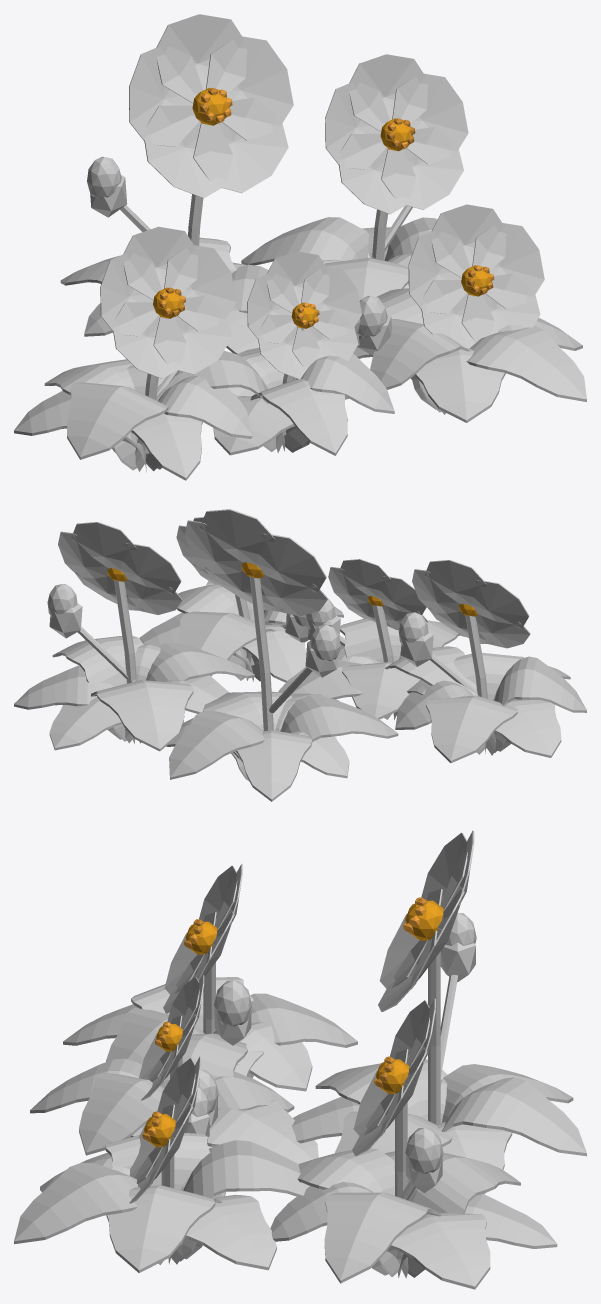
The model's file is Test_Cheon_Flowers.fbx.
3 renders of one model, top to bottom at view 1: azimuth 30°, elevation 25°; view 2: azimuth 150°, elevation 25°; view 3: azimuth 270°, elevation 25°, orthographic. The views are drawn at different scales.
Parts seen in each view (by area): view 1: FlowerPlant_1_Leaf_5, FlowerPlant_0_Leaf_4, Flower_03_Petal_0, Flower_03_Petal_4, Flower_03_Petal_1, Flower_03_Petal_3, Flower_03_Petal_2, FlowerPlant_1_Leaf_4, FlowerPlant_4_Leaf_2, FlowerPlant_2_Leaf_1, FlowerPlant_0_Leaf_6, Flower_02_Petal_0 (+40 smaller); view 2: FlowerPlant_2_Leaf_1, FlowerPlant_0_Leaf_2, FlowerPlant_3_Leaf_6, FlowerPlant_3_Leaf_2, FlowerPlant_3_Leaf_0, FlowerPlant_0_Leaf_4, FlowerPlant_1_Leaf_1, FlowerPlant_4_Leaf_6, FlowerPlant_0_Leaf_3, FlowerPlant_2_Leaf_3, Flower_03_Petal_2, Flower_03_Petal_1 (+48 smaller); view 3: FlowerPlant_2_Leaf_5, FlowerPlant_1_Leaf_5, FlowerPlant_3_Leaf_6, FlowerPlant_1_Leaf_6, FlowerPlant_2_Leaf_6, FlowerPlant_1_Leaf_1, FlowerPlant_4_Leaf_3, FlowerPlant_1_Leaf_0, FlowerPlant_4_Leaf_5, FlowerPlant_2_Leaf_1, FlowerPlant_2_Leaf_3, FlowerPlant_0_Leaf_2 (+50 smaller).
Part boxes in pixels (x1=…): FlowerPlant_1_Leaf_5: x1=441, y1=325, x2=586, y2=414; FlowerPlant_0_Leaf_4: x1=67, y1=382, x2=169, y2=469; Flower_03_Petal_0: x1=206, y1=36, x2=293, y2=140; Flower_03_Petal_4: x1=193, y1=97, x2=288, y2=192; Flower_03_Petal_1: x1=156, y1=14, x2=247, y2=103; Flower_03_Petal_3: x1=144, y1=105, x2=233, y2=198; Flower_03_Petal_2: x1=129, y1=46, x2=203, y2=146; FlowerPlant_1_Leaf_4: x1=410, y1=348, x2=505, y2=422; FlowerPlant_4_Leaf_2: x1=250, y1=379, x2=347, y2=455; FlowerPlant_2_Leaf_1: x1=241, y1=217, x2=369, y2=265; FlowerPlant_0_Leaf_6: x1=135, y1=375, x2=253, y2=471; Flower_02_Petal_0: x1=392, y1=73, x2=468, y2=164; FlowerPlant_2_Leaf_1: x1=91, y1=680, x2=193, y2=751; FlowerPlant_0_Leaf_2: x1=426, y1=695, x2=517, y2=762; FlowerPlant_3_Leaf_6: x1=169, y1=711, x2=264, y2=779; FlowerPlant_3_Leaf_2: x1=280, y1=695, x2=398, y2=741; FlowerPlant_3_Leaf_0: x1=235, y1=730, x2=312, y2=801; FlowerPlant_0_Leaf_4: x1=485, y1=656, x2=586, y2=753; FlowerPlant_1_Leaf_1: x1=177, y1=611, x2=275, y2=676; FlowerPlant_4_Leaf_6: x1=342, y1=662, x2=420, y2=719; FlowerPlant_0_Leaf_3: x1=485, y1=699, x2=561, y2=757; FlowerPlant_2_Leaf_3: x1=139, y1=642, x2=254, y2=743; Flower_03_Petal_2: x1=255, y1=533, x2=326, y2=592; Flower_03_Petal_1: x1=200, y1=509, x2=274, y2=564; FlowerPlant_2_Leaf_5: x1=324, y1=1192, x2=440, y2=1283; FlowerPlant_1_Leaf_5: x1=14, y1=1162, x2=182, y2=1264; FlowerPlant_3_Leaf_6: x1=441, y1=1077, x2=586, y2=1156; FlowerPlant_1_Leaf_6: x1=106, y1=1185, x2=222, y2=1272; FlowerPlant_2_Leaf_6: x1=371, y1=1212, x2=490, y2=1289; FlowerPlant_1_Leaf_1: x1=168, y1=1140, x2=309, y2=1264; FlowerPlant_4_Leaf_3: x1=79, y1=1072, x2=164, y2=1155; FlowerPlant_1_Leaf_0: x1=185, y1=1194, x2=276, y2=1270; FlowerPlant_4_Leaf_5: x1=207, y1=1099, x2=318, y2=1163; FlowerPlant_2_Leaf_1: x1=407, y1=1153, x2=520, y2=1277; FlowerPlant_2_Leaf_3: x1=297, y1=1148, x2=399, y2=1276; FlowerPlant_0_Leaf_2: x1=250, y1=993, x2=357, y2=1047.
Size of the model in its own units: 1.62 by 0.9348 by 1.38.
